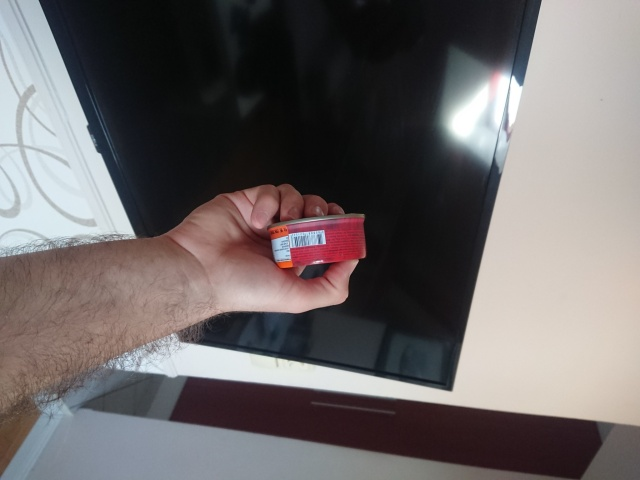Gavrilovic Pork Liver Pate 100g: (264, 211, 369, 271)
